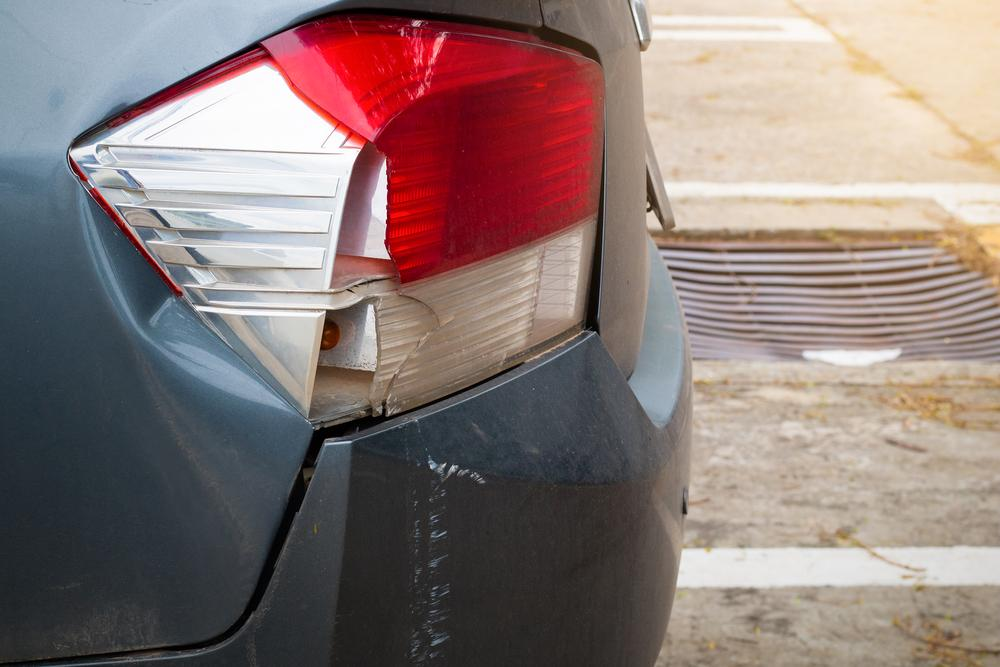dent: (80, 179, 287, 406)
lamp broken: (70, 12, 609, 429)
scratch: (404, 443, 492, 667)
